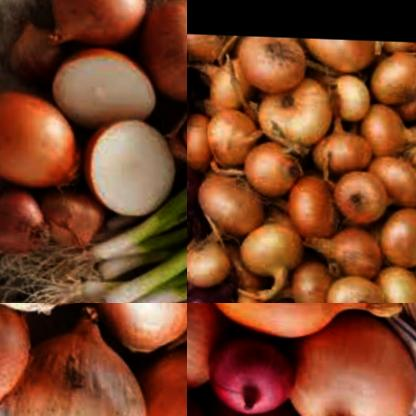onion: (187, 30, 416, 303), (2, 305, 150, 416), (187, 27, 242, 303), (285, 319, 412, 416), (77, 116, 179, 216), (47, 44, 162, 132), (0, 83, 88, 196), (194, 303, 400, 342), (201, 337, 288, 416), (37, 0, 154, 52), (136, 0, 187, 101), (121, 347, 187, 416), (0, 24, 72, 87), (93, 303, 187, 351), (0, 303, 37, 416), (38, 188, 104, 250), (0, 179, 45, 260), (187, 303, 223, 398), (188, 398, 293, 416), (167, 93, 187, 171)
